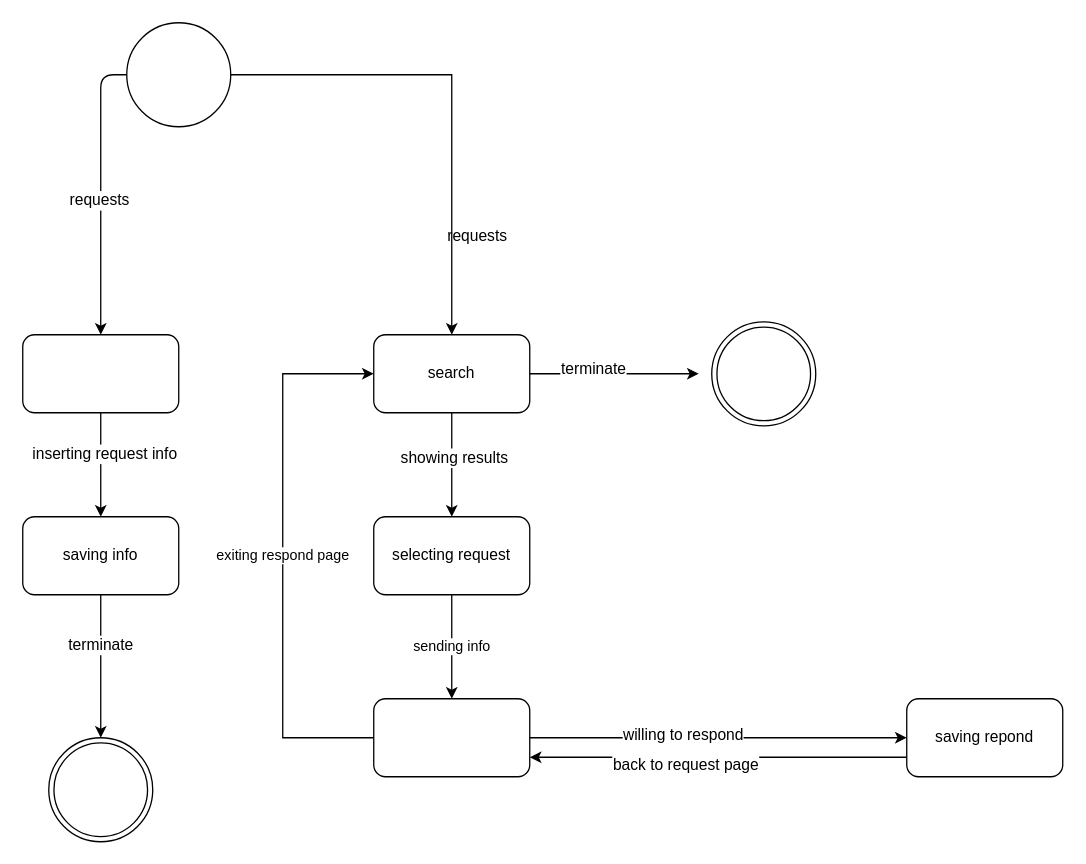
This 1086x864 diagram has some shape labels left out. Each missing label, with the box of its shape:
showing request form: (21, 333, 179, 413)
showing requests page: (372, 697, 530, 777)
